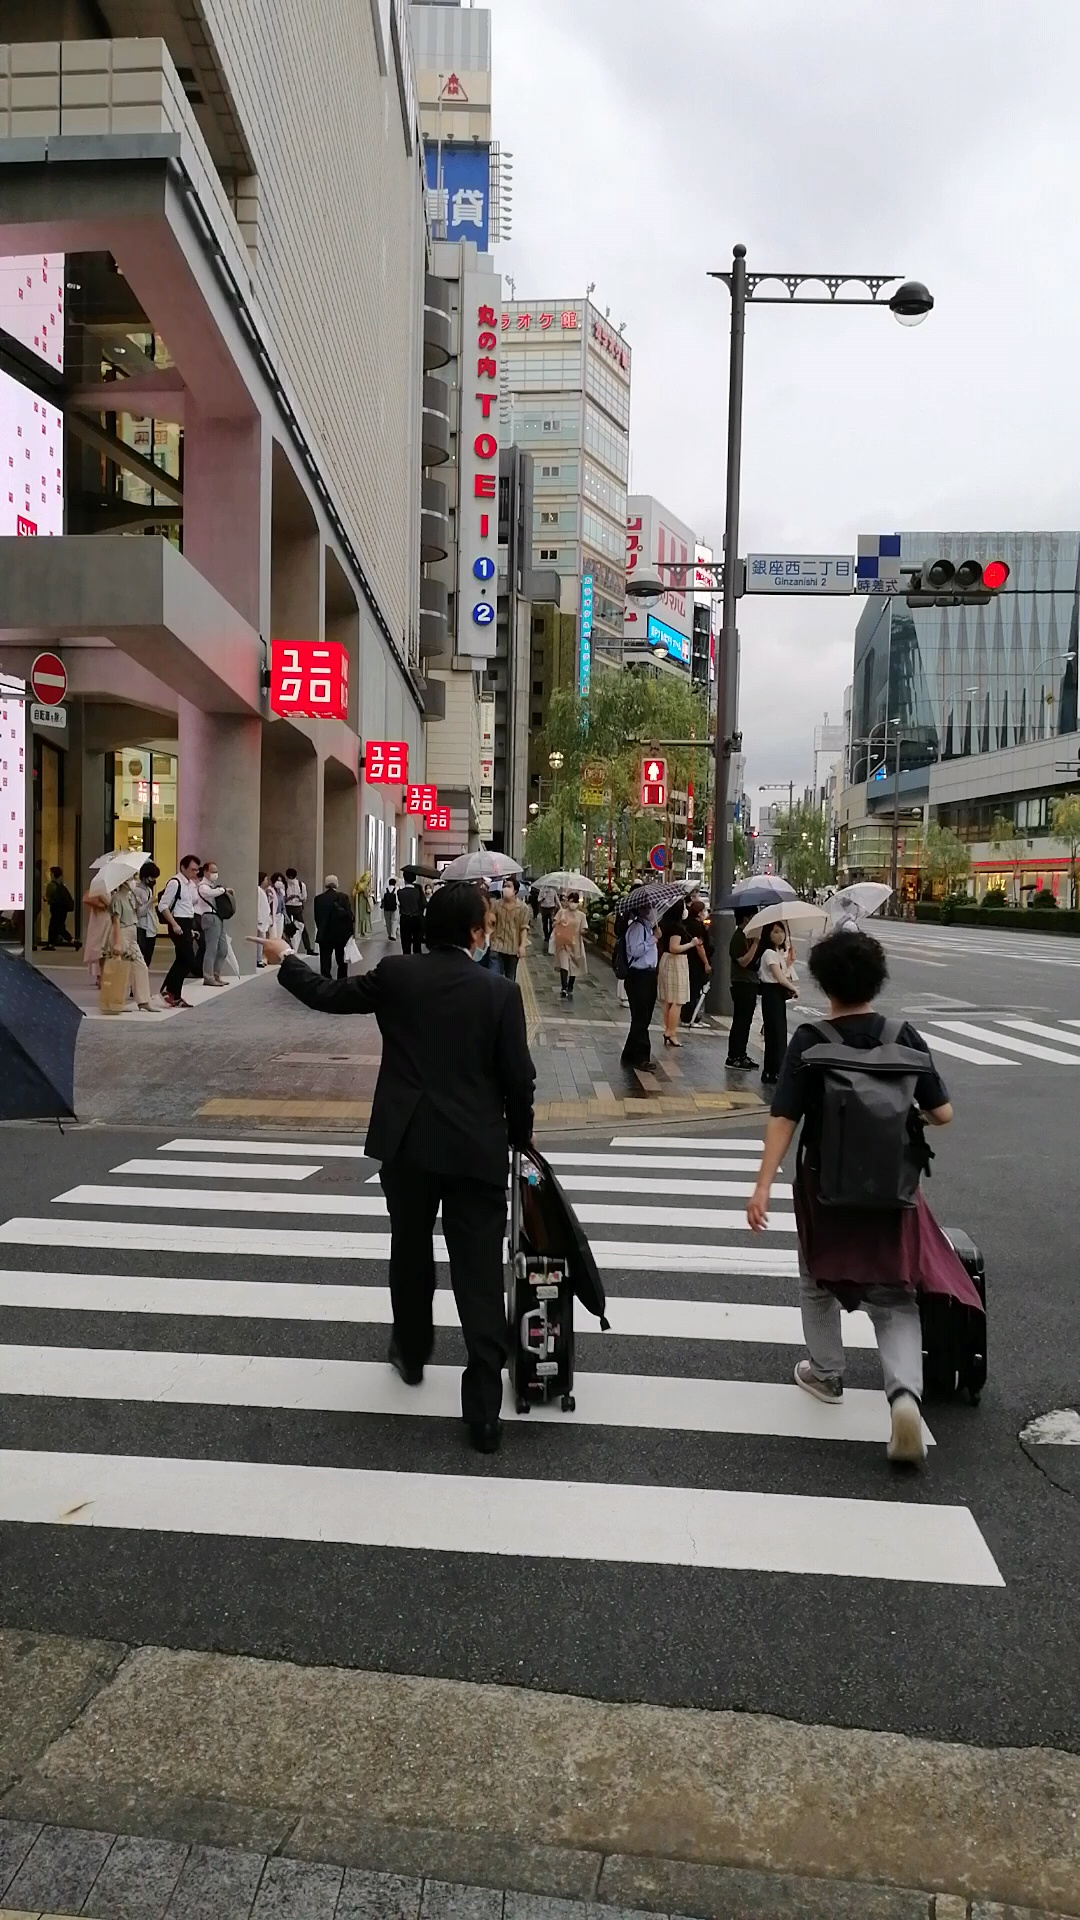red: (640, 757, 666, 807)
